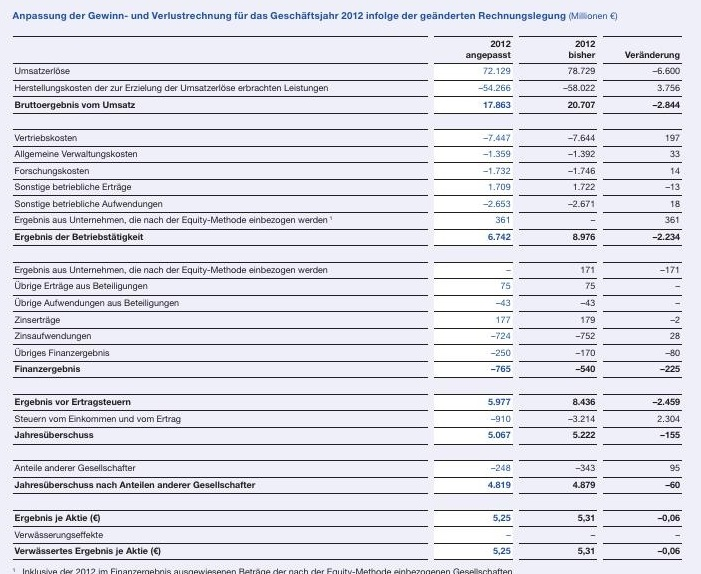table: (0, 0, 701, 574)
